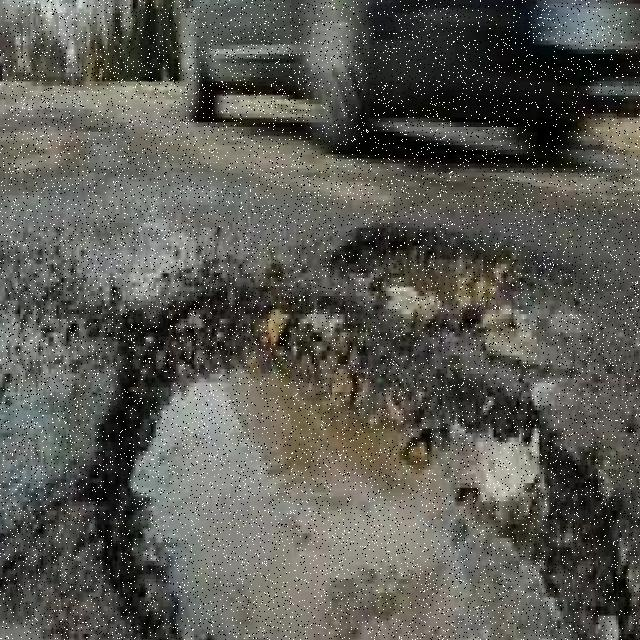pothole: (89, 227, 621, 640)
